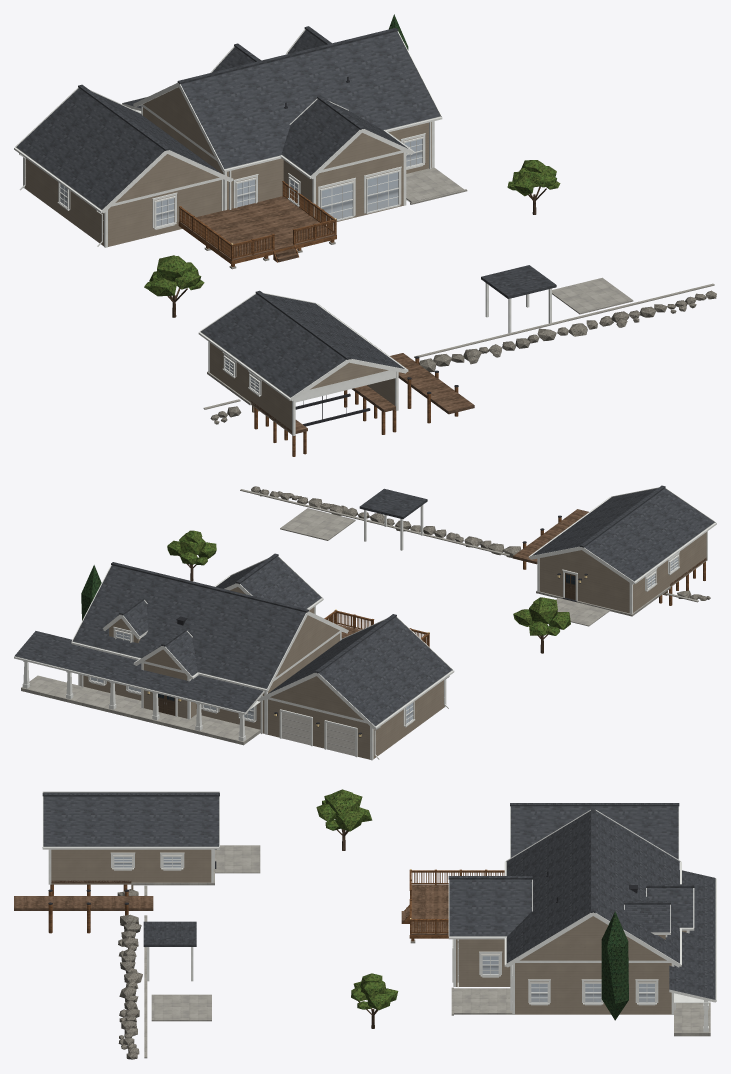
File: lot-8215.fbx
3 views of the same model, one above another, from view 1: azimuth 30°, elevation 25°; view 2: azimuth 150°, elevation 25°; view 3: azimuth 270°, elevation 25° (orthographic). The views are drawn at different scales.
Visible parts, largest first — view 1: lot-8215_LOD0; view 2: lot-8215_LOD0; view 3: lot-8215_LOD0.
Part boxes in pixels (left/top/right/bottom): lot-8215_LOD0: left=14, top=14, right=716, bottom=456; lot-8215_LOD0: left=14, top=485, right=716, bottom=760; lot-8215_LOD0: left=14, top=789, right=716, bottom=1059.
Size of what is drawn, in the model's own units: 39.15 by 9.86 by 47.95.
2 materials, 2 textured.
